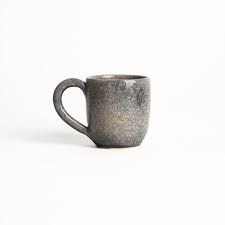mug: (28, 64, 157, 169)
